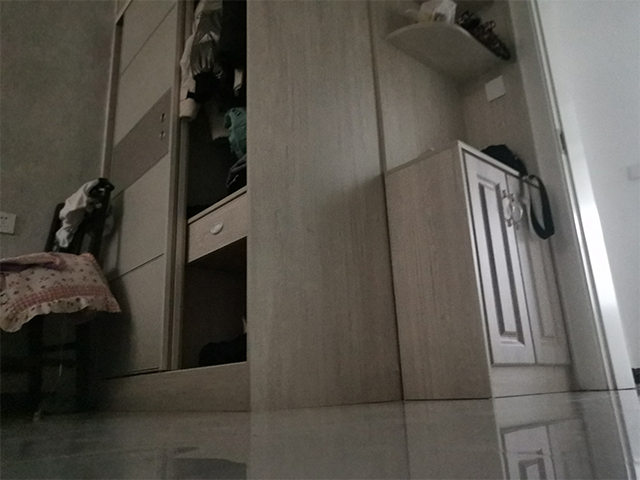cabinet: (121, 125, 383, 415), (380, 139, 582, 401)
stool: (1, 175, 118, 413)
